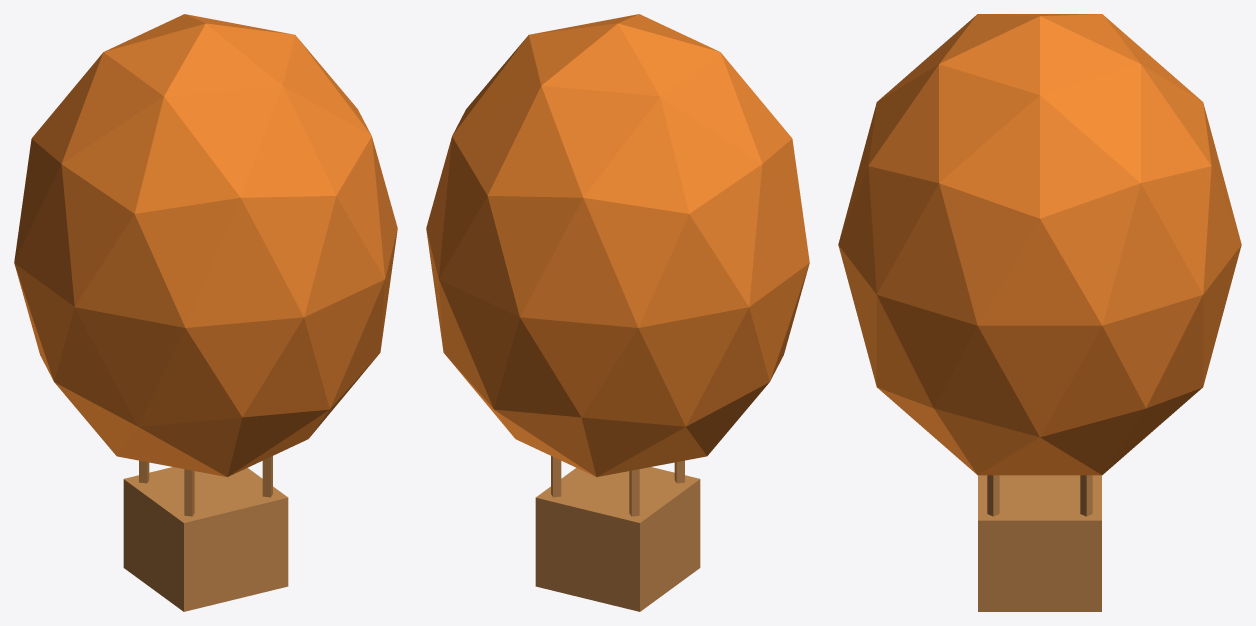
Rendered from hot_air_balloon.glb.
The picture shows the model from 3 angles, left to right: view 1: azimuth 30°, elevation 25°; view 2: azimuth 150°, elevation 25°; view 3: azimuth 270°, elevation 25°; orthographic projection. The views are drawn at different scales.
Parts seen in each view (by area): view 1: hot_air_balloon; view 2: hot_air_balloon; view 3: hot_air_balloon.
Part boxes in pixels (x1=…): hot_air_balloon: x1=14, y1=14, x2=397, y2=611; hot_air_balloon: x1=426, y1=14, x2=809, y2=611; hot_air_balloon: x1=838, y1=14, x2=1241, y2=611.
Size of the model in its own units: 0.4946 by 0.81 by 0.52.
